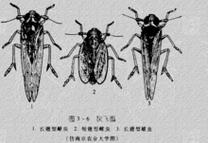Delphacidae: (1, 2, 62, 103), (120, 6, 183, 101), (59, 20, 127, 88)
